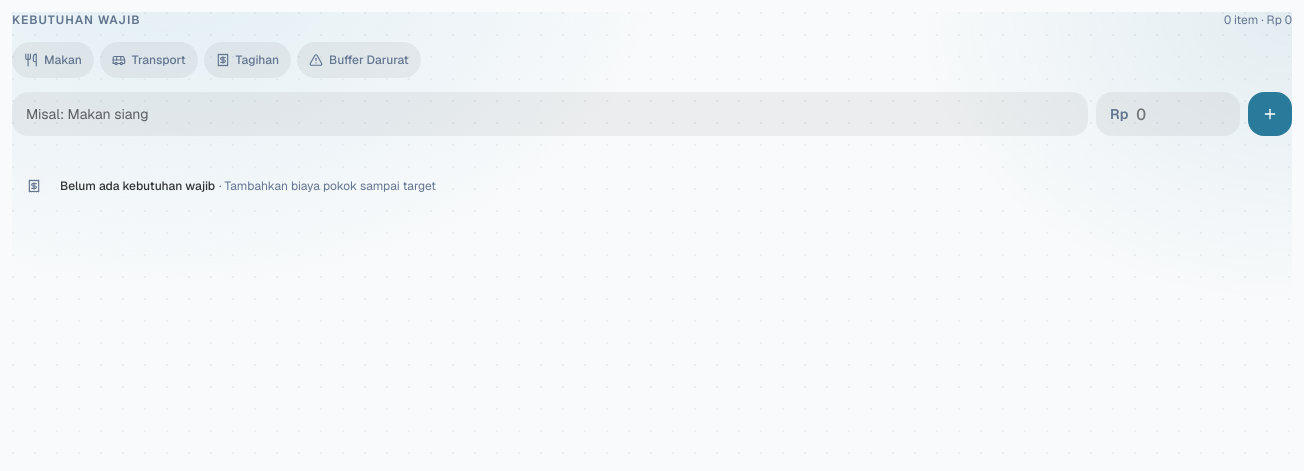
Scenario: NeedsSection: valid submission › adds valid item to store, clears inputs, and returns focus to title
Step 1. Type "Listrik" into the field with id "need-title-input" → (550,114), box left=12, top=92, right=1088, bottom=136
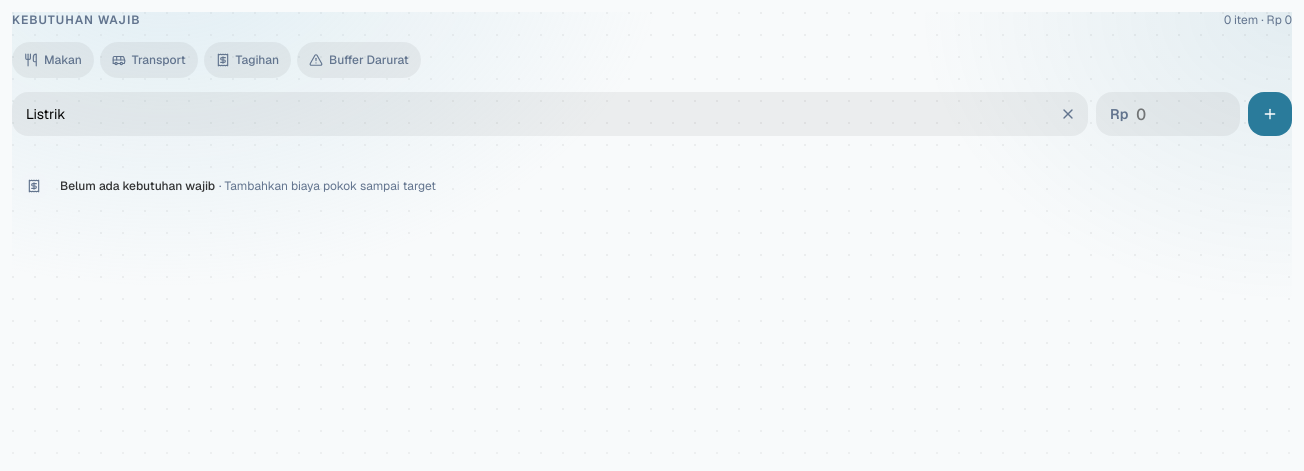
Step 2. Type "150000" into the field with id "need-amount-input" → (1181,114), box left=1136, top=92, right=1226, bottom=136
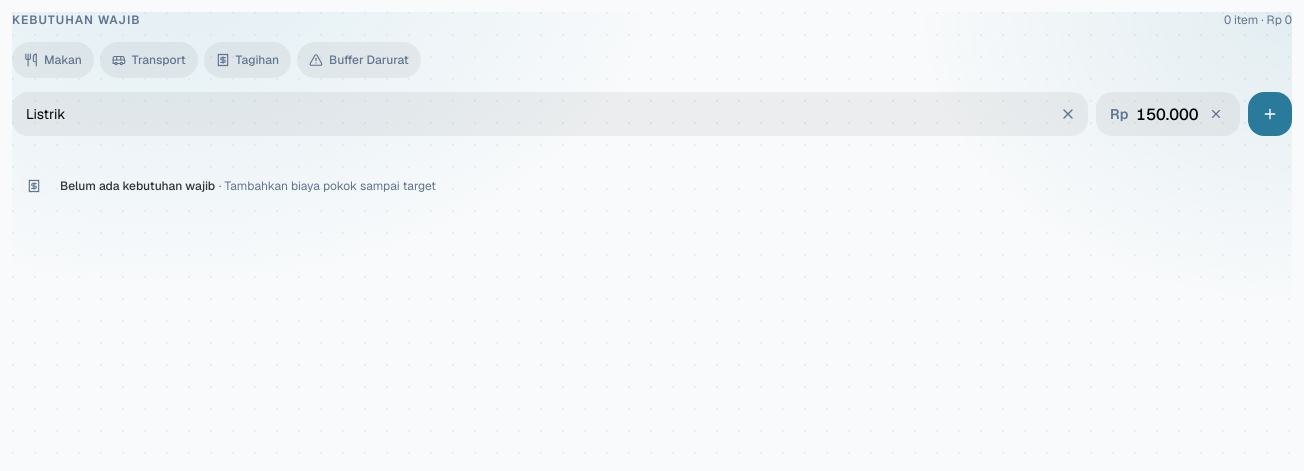
Step 3. Submit the form from the submit button, box left=1248, top=92, right=1292, bottom=136
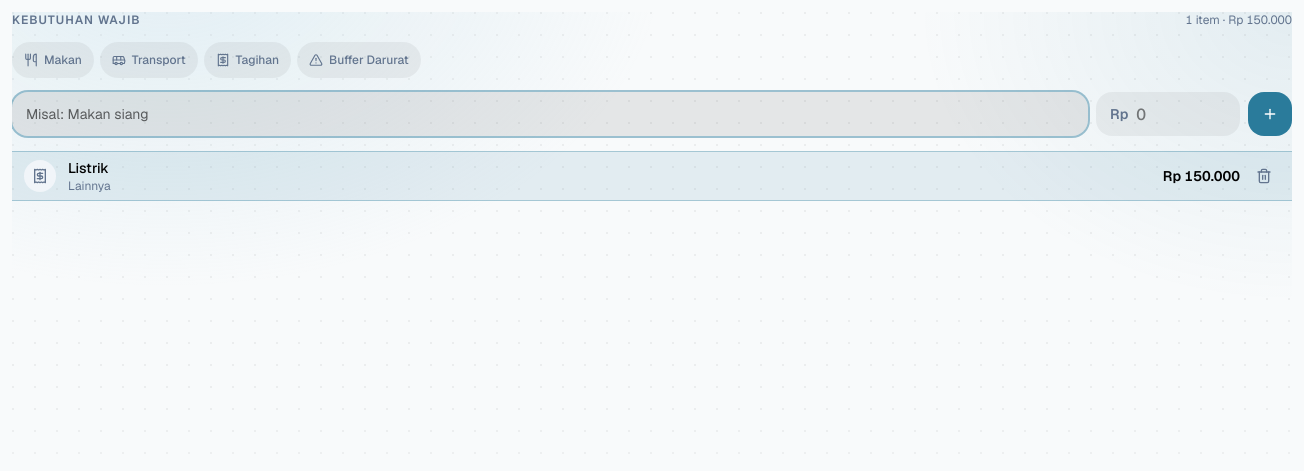
Expected: the text "Listrik" is shown, left=68, top=159, right=109, bottom=177
Expected: the field with id "need-title-input" is empty, left=12, top=92, right=1088, bottom=136
Expected: the field with id "need-amount-input" is empty, left=1136, top=92, right=1226, bottom=136
